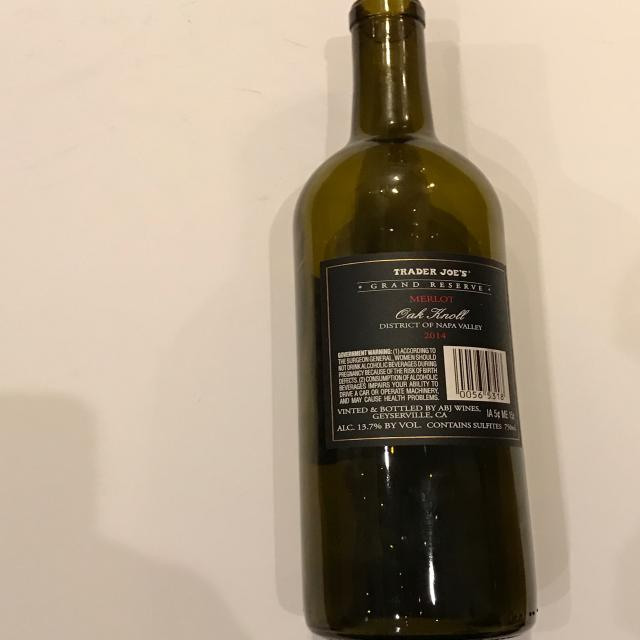glass: (292, 1, 539, 638)
